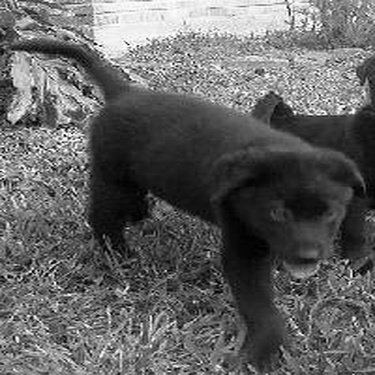dog: (2, 29, 368, 372), (247, 48, 373, 283)
